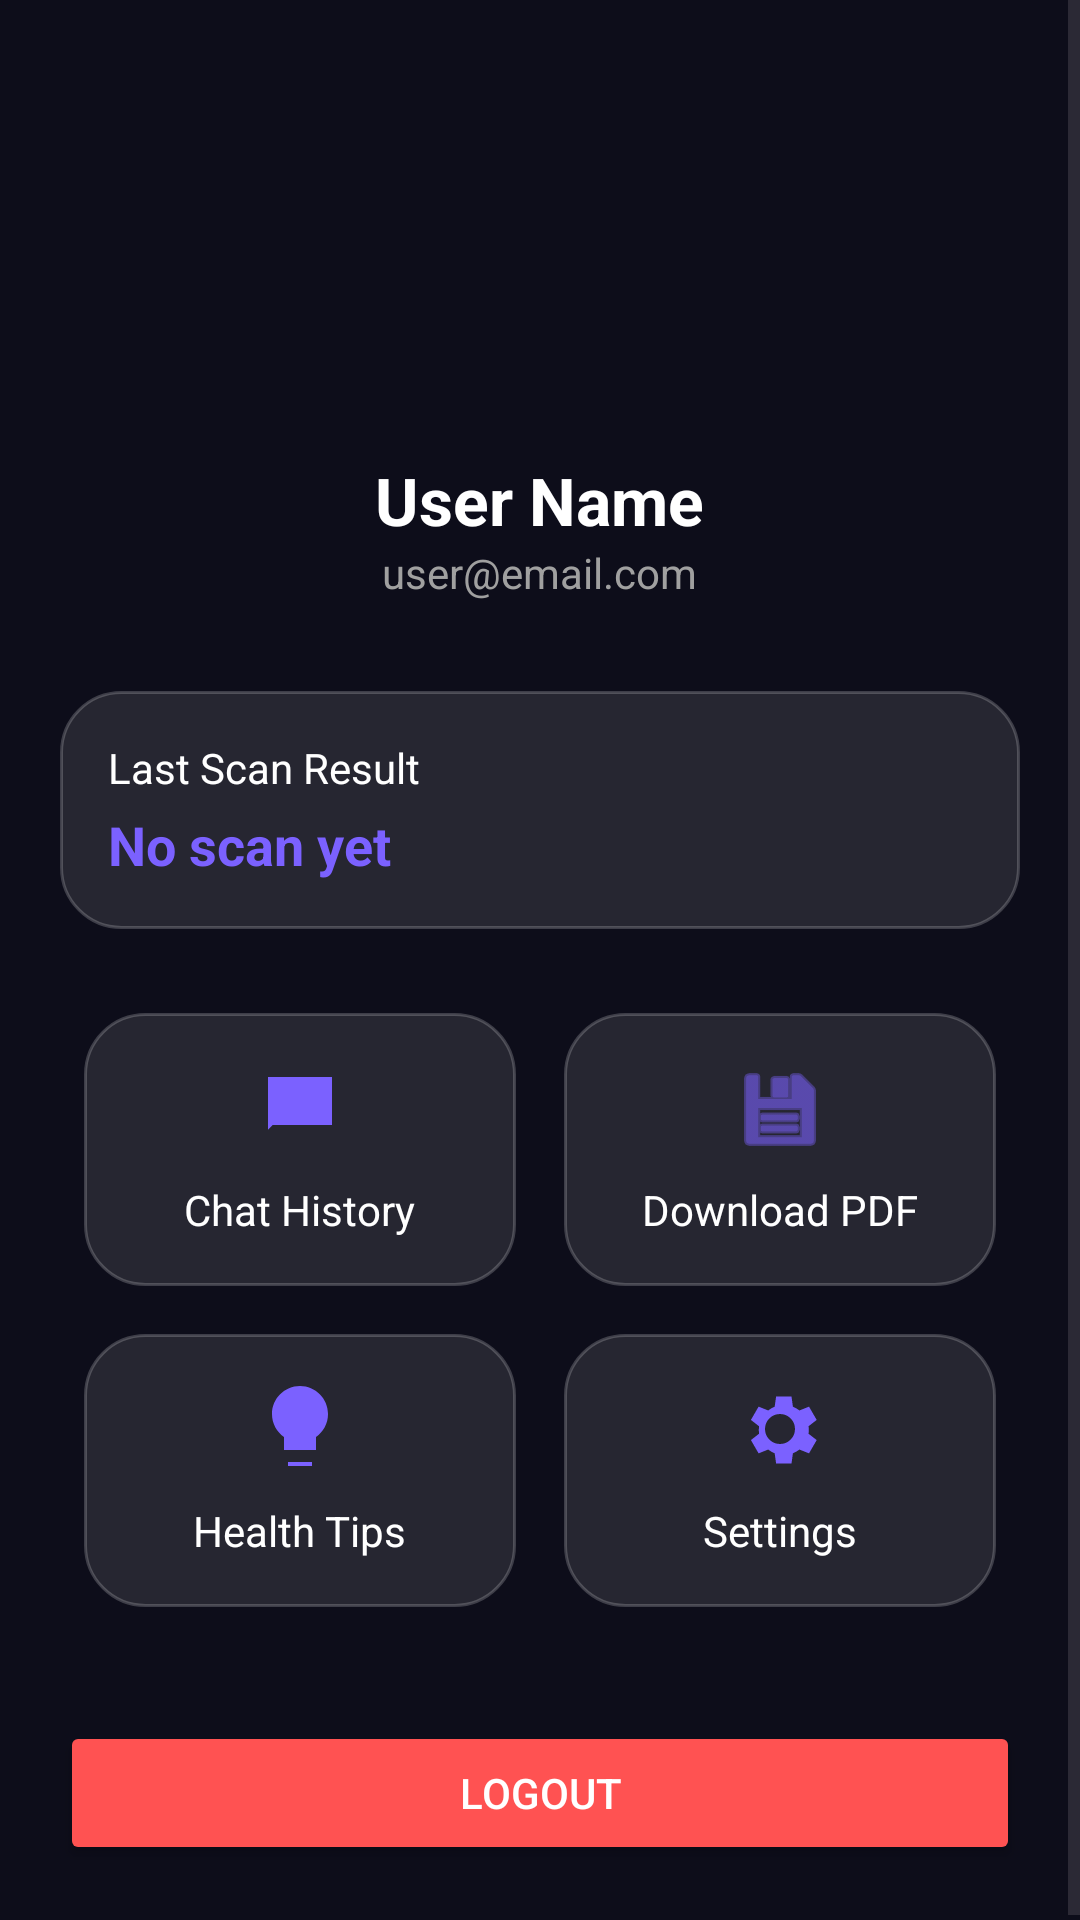

Icons on this 1080 x 1920 Android screen, each with the point to tap as [x,y]:
save: [780,1109]
